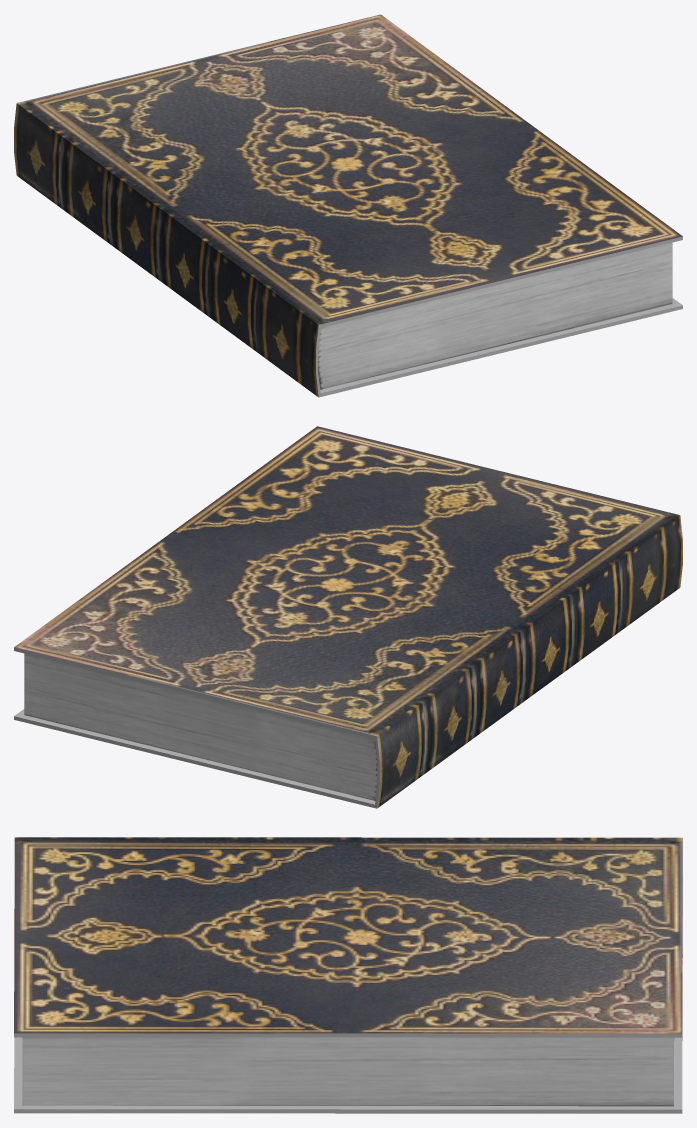
File: SM_Book_3.glb
The picture shows the model from 3 angles, top to bottom: view 1: azimuth 30°, elevation 25°; view 2: azimuth 150°, elevation 25°; view 3: azimuth 270°, elevation 25°; orthographic projection. The views are drawn at different scales.
Parts seen in each view (by area): view 1: SM_Book_3; view 2: SM_Book_3; view 3: SM_Book_3.
Part boxes in pixels (x1=…): SM_Book_3: x1=14, y1=14, x2=682, y2=397; SM_Book_3: x1=14, y1=426, x2=682, y2=808; SM_Book_3: x1=14, y1=837, x2=682, y2=1113.
Bounding box in the file's own units: 0.1716 × 0.0324 × 0.2453.
1 material, 1 textured.
